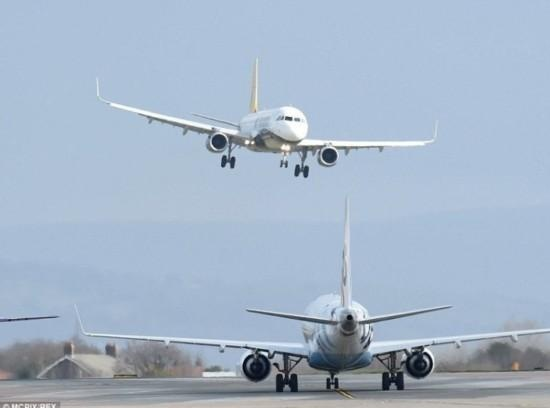airplane: (70, 198, 549, 392), (94, 55, 445, 181)
